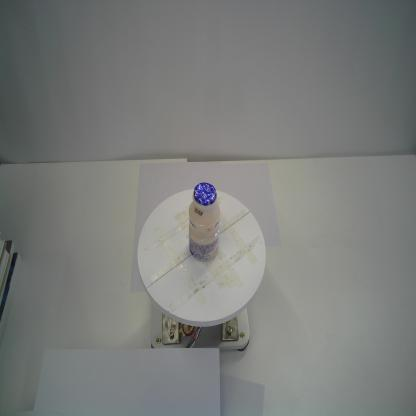Milk: (188, 182, 220, 262)
